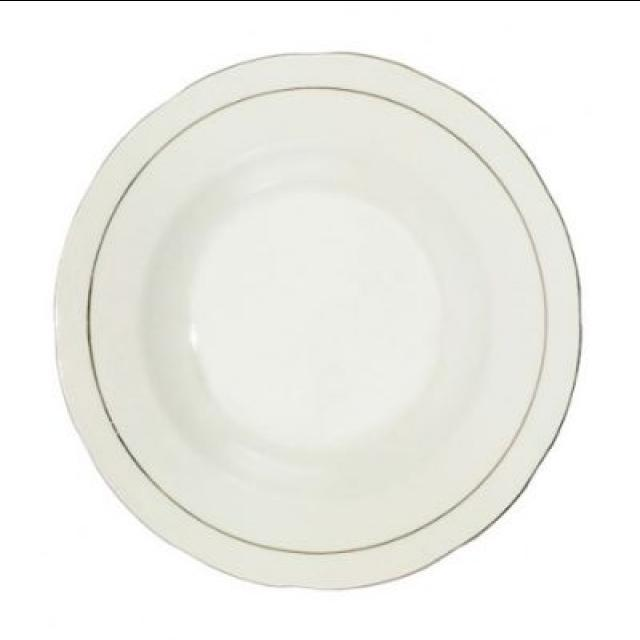plate: (50, 39, 588, 606), (65, 28, 75, 38)
